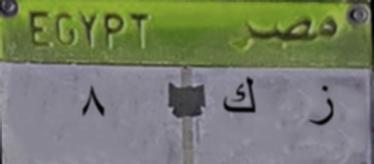8: (73, 80, 114, 128)
kaaf: (219, 72, 260, 124)
zay: (299, 82, 341, 132)
